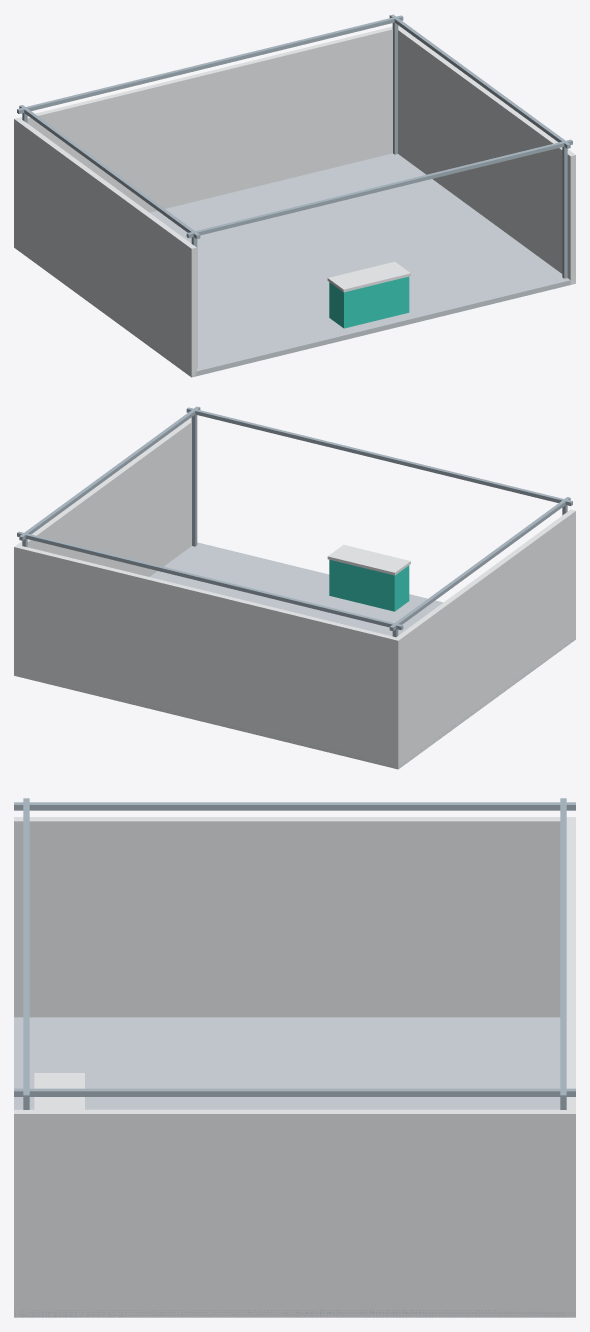
3 renders of one model, top to bottom at view 1: azimuth 30°, elevation 25°; view 2: azimuth 150°, elevation 25°; view 3: azimuth 270°, elevation 25°, orthographic. The views are drawn at different scales.
Visible parts, largest first — view 1: Exhibition Booth Concept; view 2: Exhibition Booth Concept; view 3: Exhibition Booth Concept.
Boxes of the visible parts, box(x1,y1,x2,y2) form: Exhibition Booth Concept: box(14, 14, 575, 377); Exhibition Booth Concept: box(14, 406, 575, 769); Exhibition Booth Concept: box(14, 798, 575, 1317).
Size of the model in its own units: 10 by 3.49 by 8.
